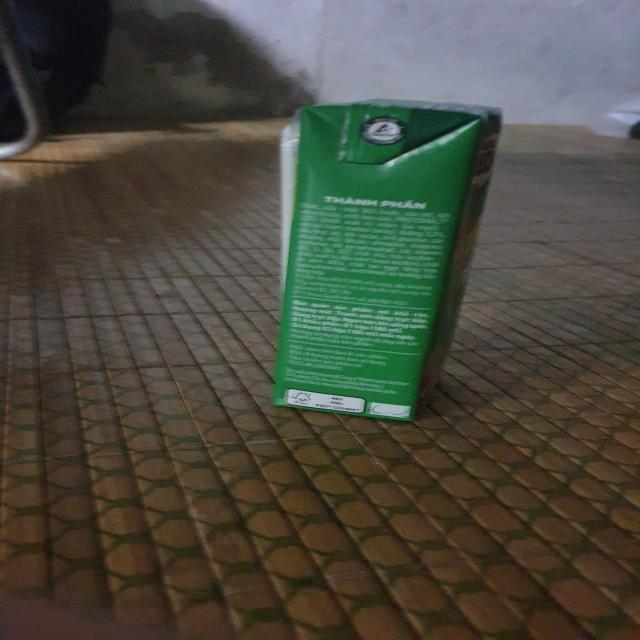Milo: (262, 95, 512, 428)
